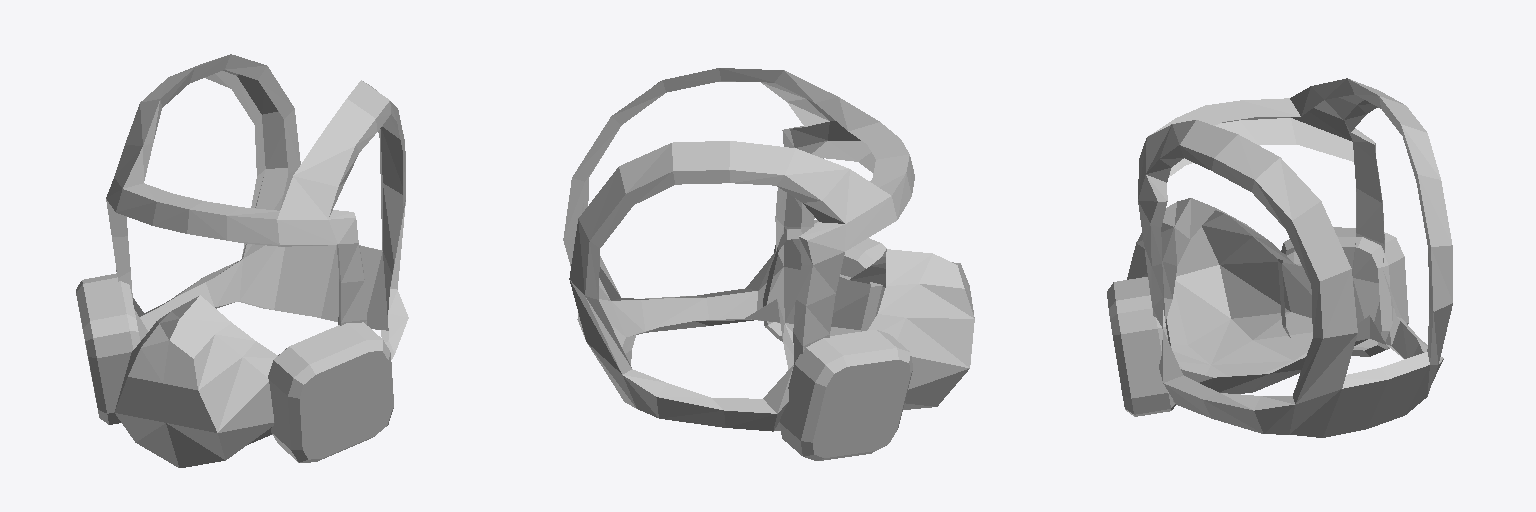
File: MascotGasmask.obj
The picture shows the model from 3 angles: view 1: azimuth 30°, elevation 25°; view 2: azimuth 150°, elevation 25°; view 3: azimuth 270°, elevation 25°; orthographic projection.
Visible parts, largest first — view 1: Body.Body_1.smd.mesh_3; view 2: Body.Body_1.smd.mesh_3; view 3: Body.Body_1.smd.mesh_3.
Boxes of the visible parts, x1,y1,x2,y2 form: Body.Body_1.smd.mesh_3: [76, 54, 408, 467]; Body.Body_1.smd.mesh_3: [563, 68, 974, 460]; Body.Body_1.smd.mesh_3: [1107, 78, 1452, 437].
Size of the model in its own units: 18.44 by 15.96 by 16.1.